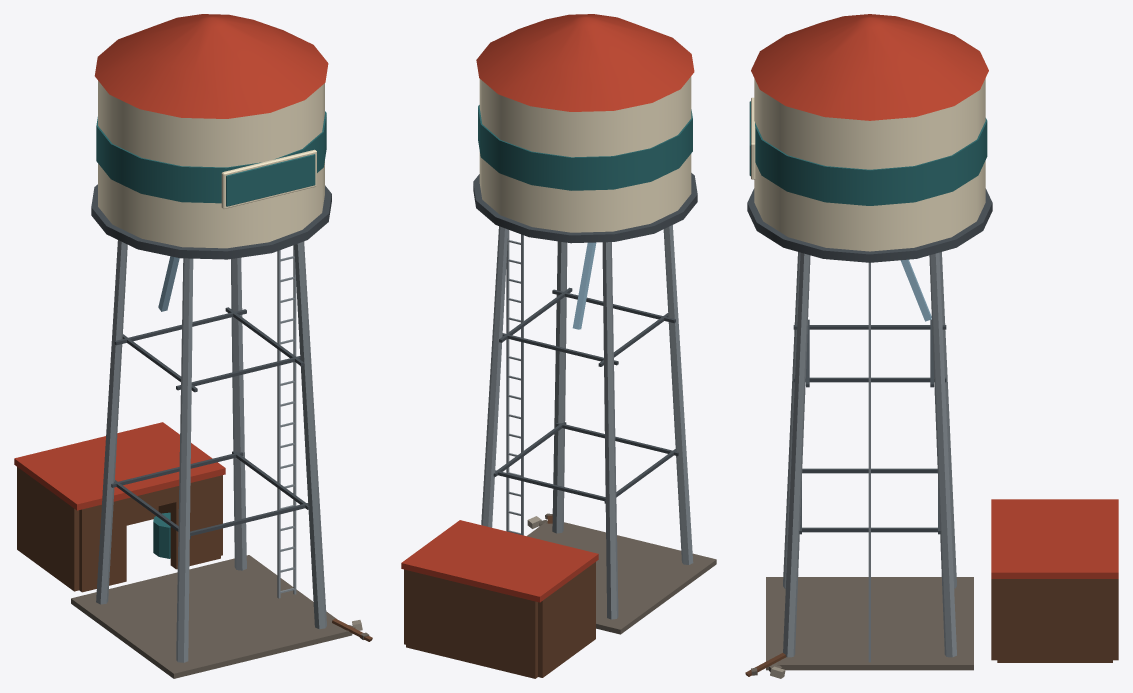
File: Bldg_WaterTower.fbx
3 renders of one model, left to right at view 1: azimuth 30°, elevation 25°; view 2: azimuth 150°, elevation 25°; view 3: azimuth 270°, elevation 25°, orthographic. The views are drawn at different scales.
Visible parts, largest first — view 1: Decor, Tank, Pad, Roof, Shed5, Leg1, Leg3, Leg2, Leg4, Shed1, Shed3, Sign1 (+1 smaller); view 2: Decor, Tank, Shed4, Roof, Pad, Shed5, Leg2, Leg1, Leg4, Leg3; view 3: Decor, Tank, Pad, Roof, Shed6, Leg4, Leg3, Leg2, Leg1, Shed3.
Part boxes in pixels (x1=…): Decor: x1=91, y1=14, x2=372, y2=641; Tank: x1=98, y1=81, x2=324, y2=248; Pad: x1=71, y1=555, x2=352, y2=678; Roof: x1=14, y1=422, x2=225, y2=510; Shed5: x1=17, y1=467, x2=79, y2=591; Leg1: x1=176, y1=258, x2=193, y2=662; Leg3: x1=294, y1=241, x2=326, y2=629; Leg2: x1=96, y1=240, x2=127, y2=604; Leg4: x1=231, y1=257, x2=246, y2=570; Shed1: x1=79, y1=498, x2=126, y2=592; Shed3: x1=170, y1=475, x2=220, y2=569; Sign1: x1=226, y1=154, x2=315, y2=206; Decor: x1=473, y1=14, x2=697, y2=535; Tank: x1=479, y1=76, x2=691, y2=232; Shed4: x1=406, y1=570, x2=537, y2=678; Roof: x1=401, y1=520, x2=598, y2=602; Pad: x1=527, y1=521, x2=716, y2=634; Shed5: x1=538, y1=562, x2=595, y2=677; Leg2: x1=602, y1=242, x2=618, y2=619; Leg1: x1=663, y1=225, x2=693, y2=564; Leg4: x1=481, y1=226, x2=508, y2=527; Leg3: x1=552, y1=241, x2=567, y2=533; Decor: x1=745, y1=14, x2=992, y2=678; Tank: x1=754, y1=78, x2=985, y2=251; Pad: x1=766, y1=577, x2=973, y2=670; Roof: x1=991, y1=499, x2=1118, y2=578; Shed6: x1=997, y1=579, x2=1112, y2=662; Leg4: x1=929, y1=252, x2=956, y2=657; Leg3: x1=783, y1=253, x2=810, y2=657; Leg2: x1=939, y1=252, x2=956, y2=588; Leg1: x1=783, y1=252, x2=800, y2=588; Shed3: x1=991, y1=579, x2=997, y2=660.
Bounding box in the file's own units: 21.29 × 58.17 × 32.28.
